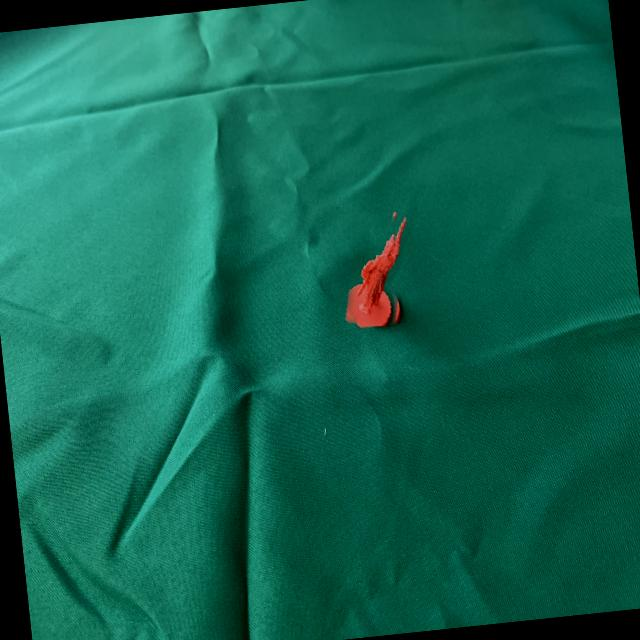amon_follower: (346, 217, 406, 327)
